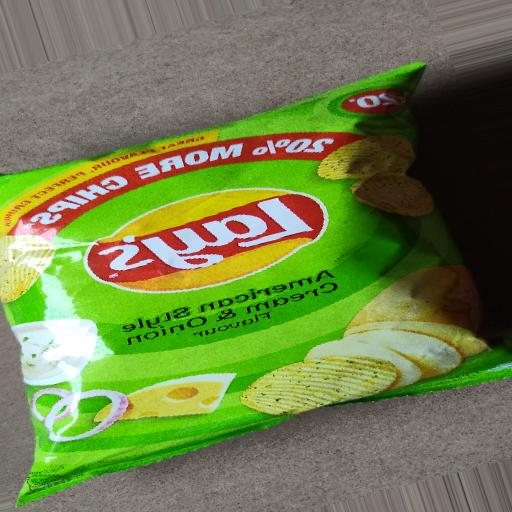Lays Green Small pack (American style cream and onion): (0, 53, 511, 512)
